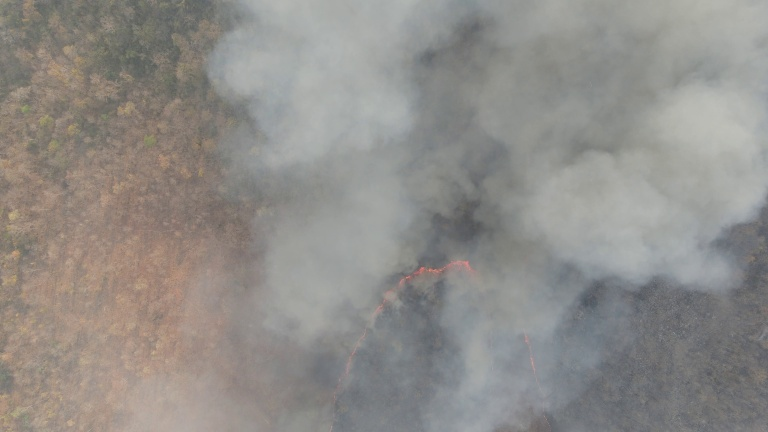fire: (325, 256, 485, 422), (506, 313, 555, 407)
smoke: (469, 1, 768, 268), (227, 1, 448, 330)
